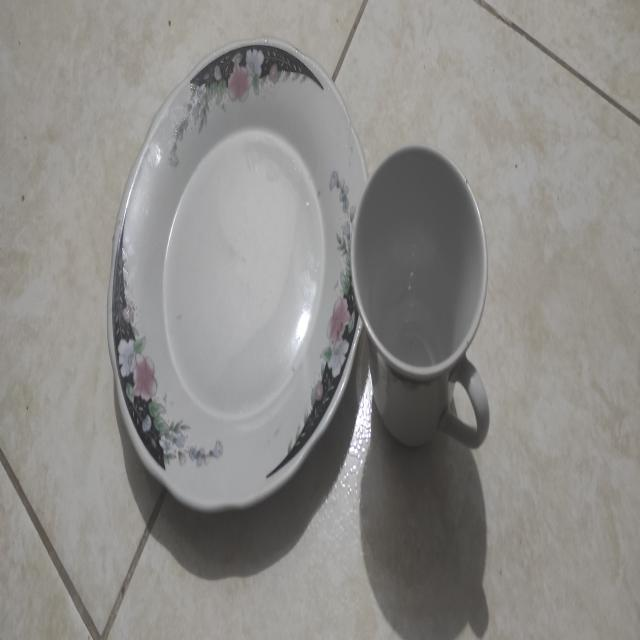non-organic waste: (110, 46, 374, 526)
